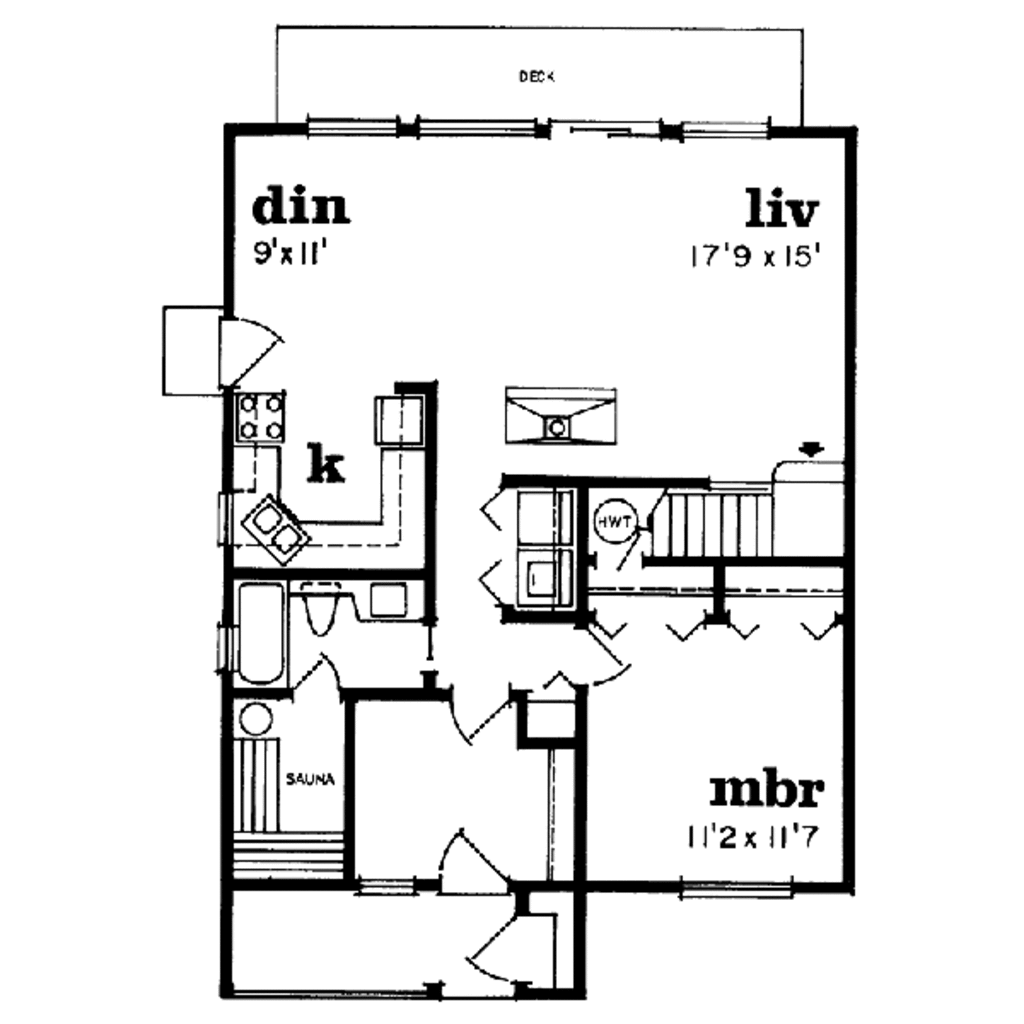door: (428, 826, 518, 892), (213, 313, 291, 389), (578, 619, 648, 702), (434, 678, 509, 746), (471, 902, 529, 987), (296, 651, 347, 697)
large_sink: (288, 565, 350, 648)
stairs: (620, 426, 845, 565)
tub: (231, 573, 293, 687)
twin_sink: (239, 494, 329, 568)
window: (405, 103, 540, 146), (675, 870, 805, 903), (282, 108, 405, 140), (682, 111, 772, 145)
